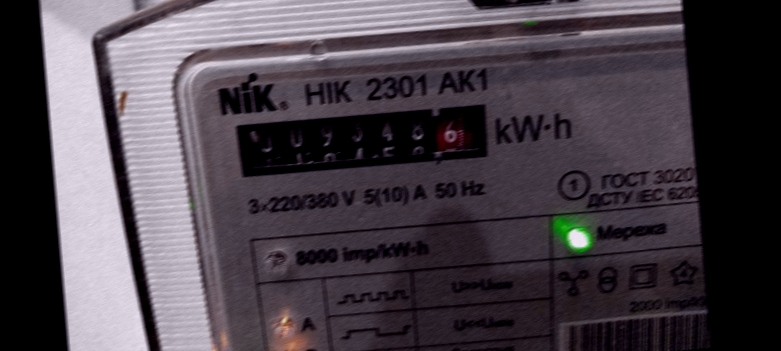0: (258, 127, 273, 154), (288, 124, 304, 148)
3: (348, 118, 364, 145)
4: (378, 116, 394, 144)
6: (441, 117, 460, 145)
8: (408, 114, 425, 143)
9: (318, 122, 335, 149)
screen: (226, 96, 500, 187)
